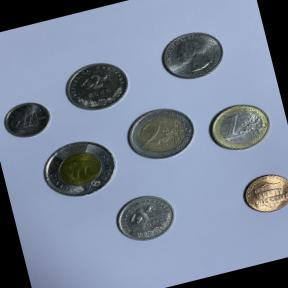1 Euro: (199, 94, 278, 160)
2 Euro: (117, 97, 204, 169)
Canda-10cent-: (0, 92, 58, 146)
Canda-2Dollar-: (33, 130, 125, 207)
Croatia-2Kune-: (56, 54, 137, 123)
US-1cent-: (234, 165, 288, 222)
US-25cent-: (152, 21, 233, 90)
